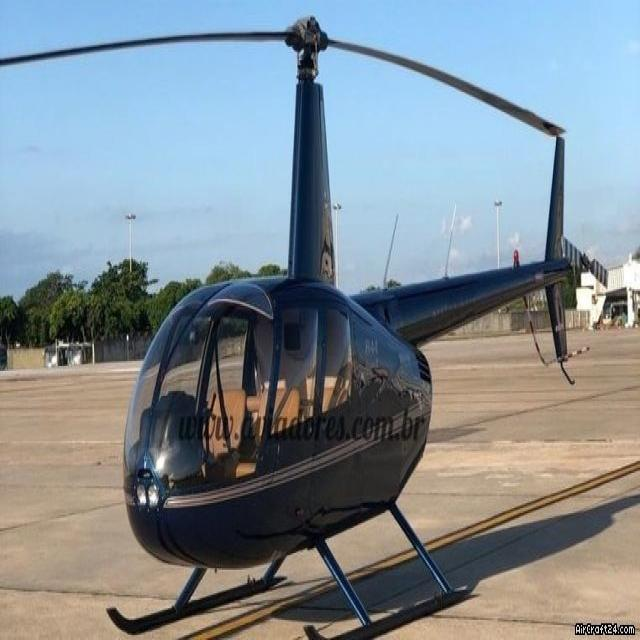CIV_HELO: (104, 15, 568, 640)
